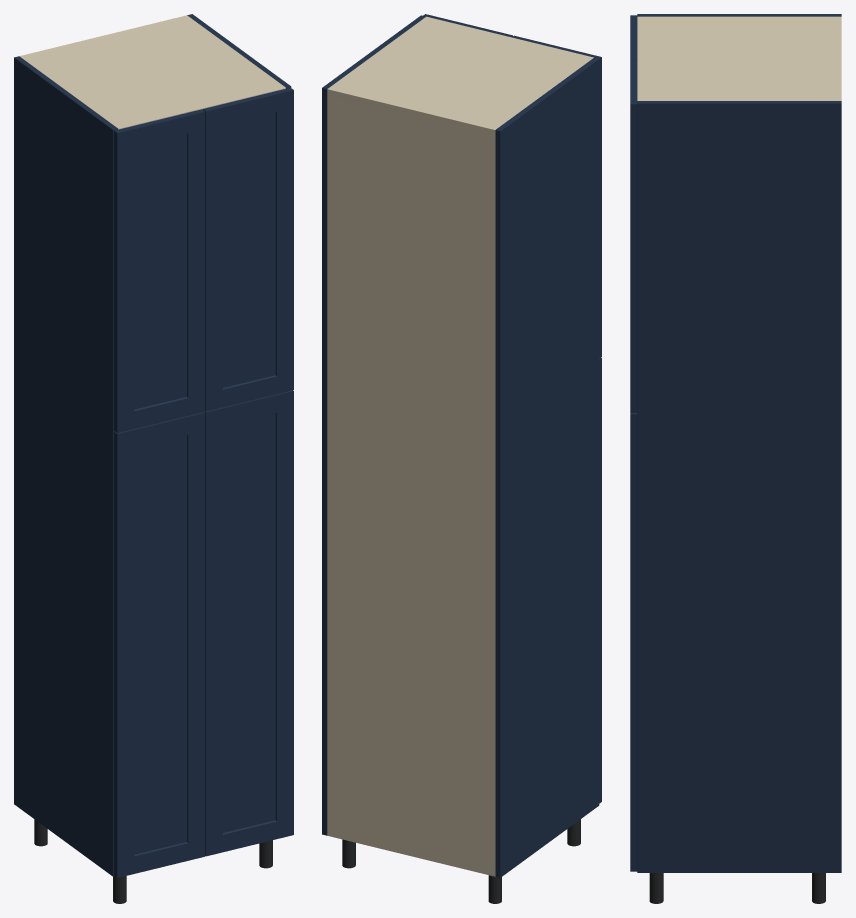
File: oppein-ply-bss-pc2496.glb
3 renders of one model, left to right at view 1: azimuth 30°, elevation 25°; view 2: azimuth 150°, elevation 25°; view 3: azimuth 270°, elevation 25°, orthographic. The views are drawn at different scales.
Visible parts, largest first — view 1: Cabinet side, Door, Door.001, Door.002, Door.003, Cabinet top, Cabinet side.001; view 2: Cabinet back, Cabinet side, Cabinet top, Cabinet side.001, Door, Door.002; view 3: Cabinet side.001, Cabinet top, Door.001, Door.003, Cabinet side, Adjustable foot.003.
Boxes of the visible parts, bbox=[...] form: Cabinet side: bbox=[14, 56, 118, 876]; Door: bbox=[114, 412, 205, 877]; Door.001: bbox=[204, 390, 293, 856]; Door.002: bbox=[114, 109, 205, 432]; Door.003: bbox=[202, 87, 293, 411]; Cabinet top: bbox=[21, 16, 285, 129]; Cabinet side.001: bbox=[187, 14, 291, 88]; Cabinet back: bbox=[327, 87, 496, 876]; Cabinet side: bbox=[495, 57, 599, 877]; Cabinet top: bbox=[327, 16, 593, 131]; Cabinet side.001: bbox=[322, 15, 425, 835]; Door: bbox=[599, 357, 601, 803]; Door.002: bbox=[512, 35, 601, 358]; Cabinet side.001: bbox=[637, 101, 841, 872]; Cabinet top: bbox=[637, 16, 837, 100]; Door.001: bbox=[630, 413, 637, 871]; Door.003: bbox=[630, 60, 637, 412]; Cabinet side: bbox=[637, 14, 841, 16]; Adjustable foot.003: bbox=[649, 873, 663, 903].
Bounding box in the file's own units: 0.6096 × 2.55 × 0.6064.
